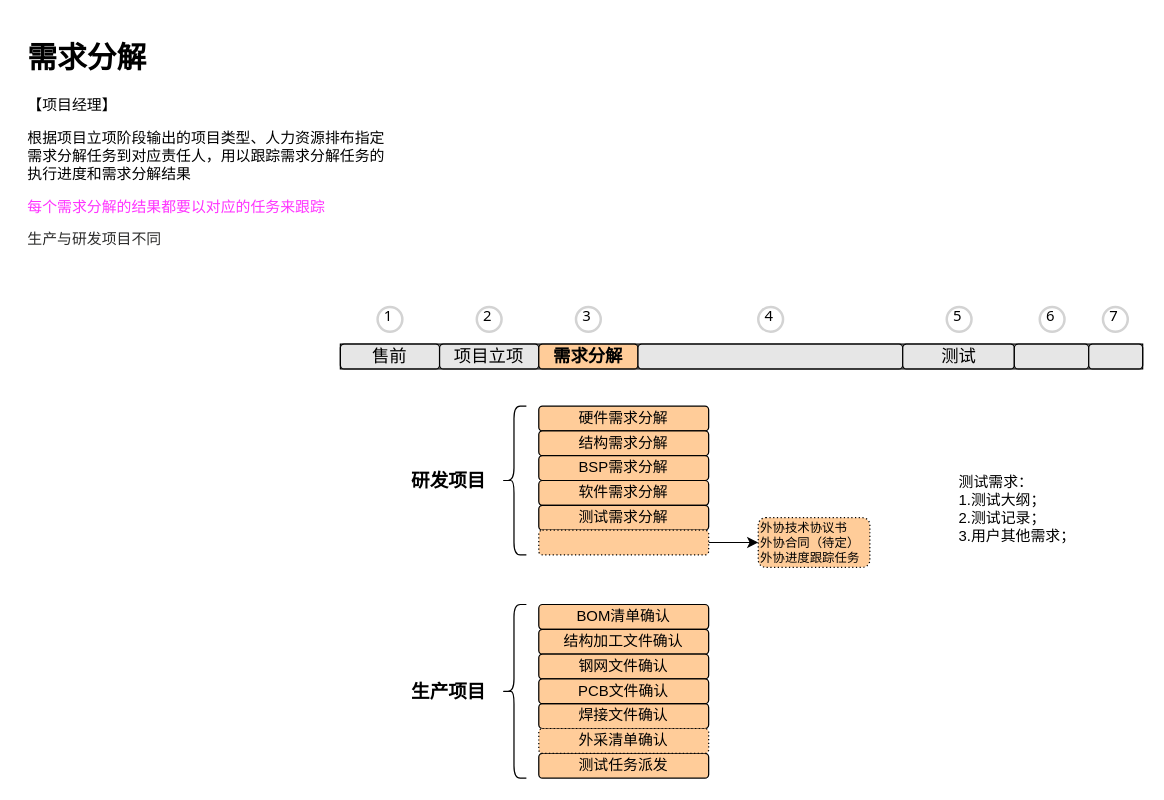
This 1164x800 diagram has some shape labels left out. The shapes that lost their labels are listed below. From the top down, each one's box as (x1, y1, x2, y2) in pixels, then its label:
(637, 343, 903, 369): 软硬件开发调试
(1013, 343, 1089, 369): 交货
(1087, 343, 1143, 369): 总结
(538, 529, 709, 555): 外协需求分解
